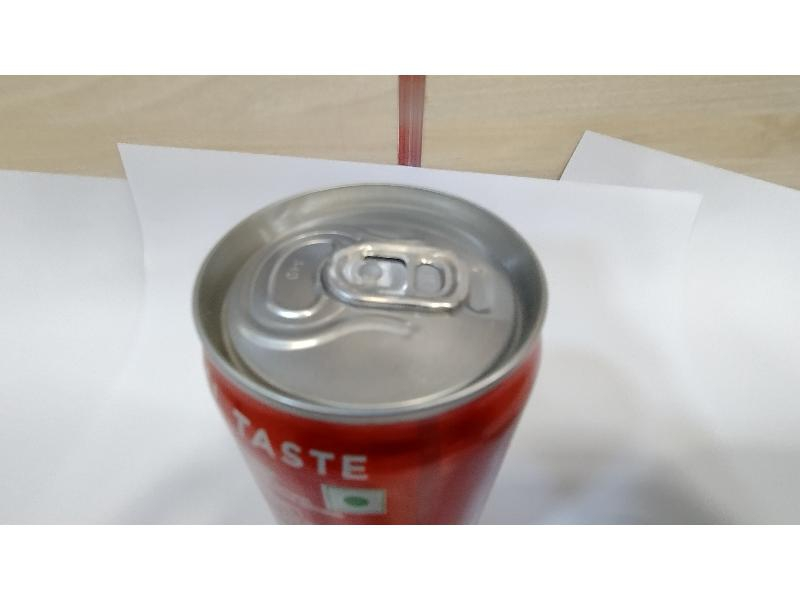can: (189, 184, 549, 520)
